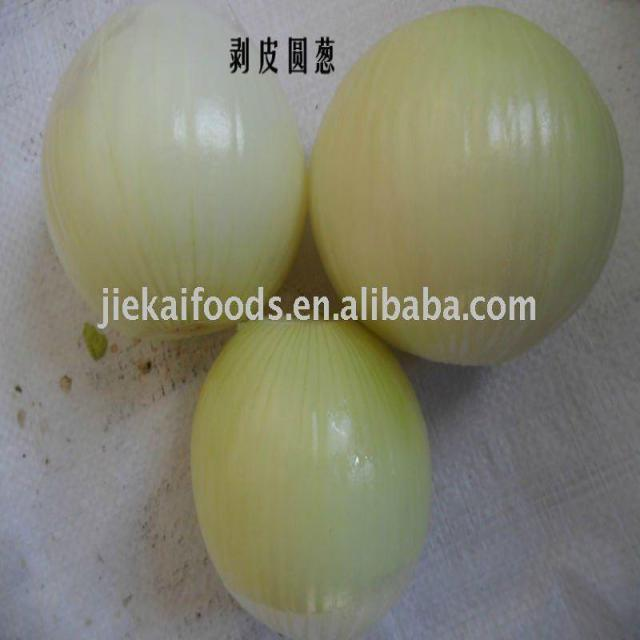Onion: (306, 3, 626, 367), (38, 3, 308, 339), (194, 314, 432, 636)
